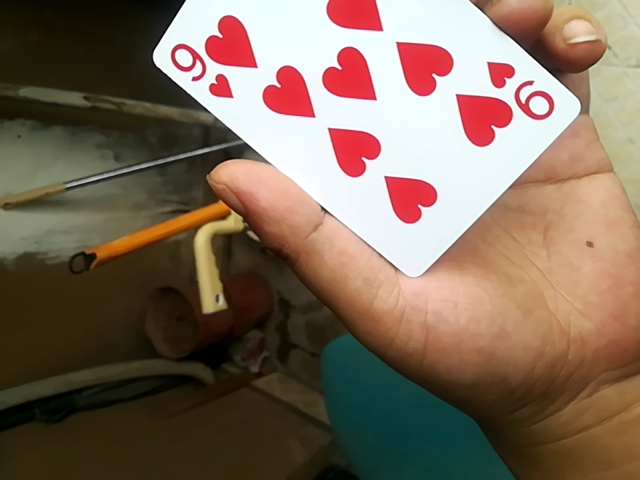hx 9: (143, 2, 582, 284)
